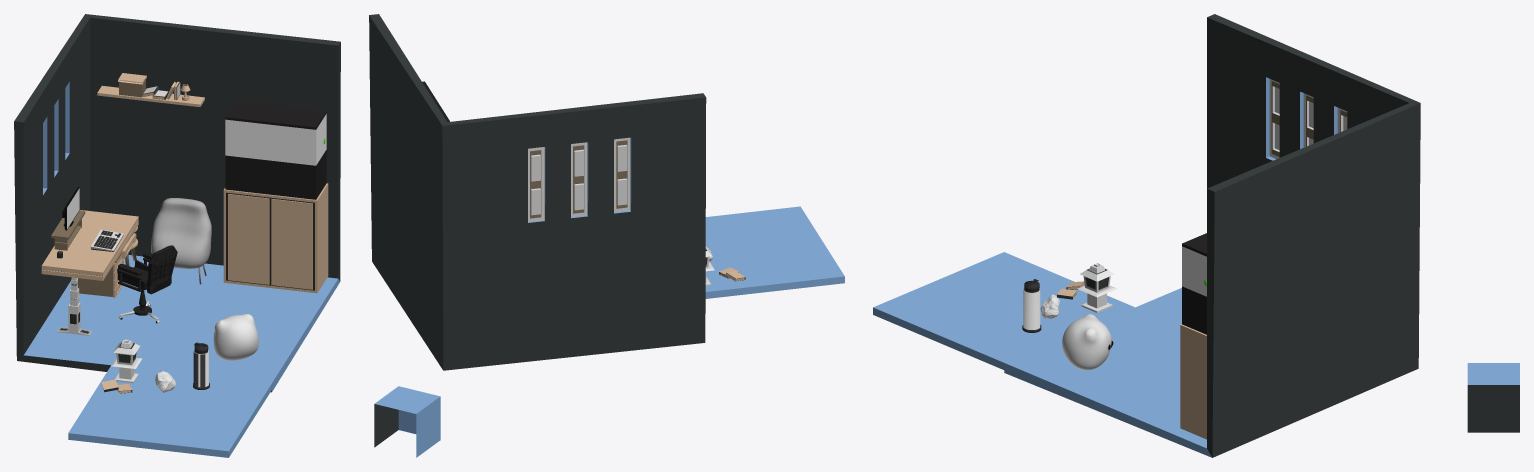
The model's file is RoomwithCat.glb.
3 views of the same model, side by side, from view 1: azimuth 30°, elevation 25°; view 2: azimuth 150°, elevation 25°; view 3: azimuth 270°, elevation 25° (orthographic). The views are drawn at different scales.
Visible parts, largest first — view 1: RoomWalls, MiniFloor, Aparador, TableTops, AquariumFrame, Aquarium, Shelves, Dotes, TableMiscs, Stands, FloorItems, Light (+2 smaller); view 2: RoomWalls, MiniFloor, Window, LoaderCube; view 3: RoomWalls, MiniFloor, LoaderCube, Aparador, Dotes, Window, AquariumFrame, Light, Aquarium, Tumbler.
Boxes of the visible parts, <box> form: RoomWalls: <box>14,14,340,392</box>; MiniFloor: <box>68,365,271,457</box>; Aparador: <box>223,183,328,293</box>; TableTops: <box>41,198,211,315</box>; AquariumFrame: <box>225,100,326,199</box>; Aquarium: <box>225,114,326,165</box>; Shelves: <box>97,73,204,106</box>; Dotes: <box>213,314,258,360</box>; TableMiscs: <box>51,210,123,258</box>; Stands: <box>68,236,206,334</box>; FloorItems: <box>57,253,159,335</box>; Light: <box>111,339,141,383</box>; RoomWalls: <box>369,14,706,370</box>; MiniFloor: <box>705,206,844,298</box>; Window: <box>528,137,630,221</box>; LoaderCube: <box>374,386,440,457</box>; RoomWalls: <box>1004,14,1420,457</box>; MiniFloor: <box>873,252,1134,369</box>; LoaderCube: <box>1467,363,1519,432</box>; Aparador: <box>1180,324,1206,439</box>; Dotes: <box>1062,314,1111,370</box>; Window: <box>1269,79,1347,158</box>; AquariumFrame: <box>1182,233,1206,334</box>; Light: <box>1077,263,1117,312</box>; Aquarium: <box>1182,246,1206,296</box>; Tumbler: <box>1022,279,1041,332</box>.
Bounding box in the file's own units: 18.05 × 13.38 × 24.69.
